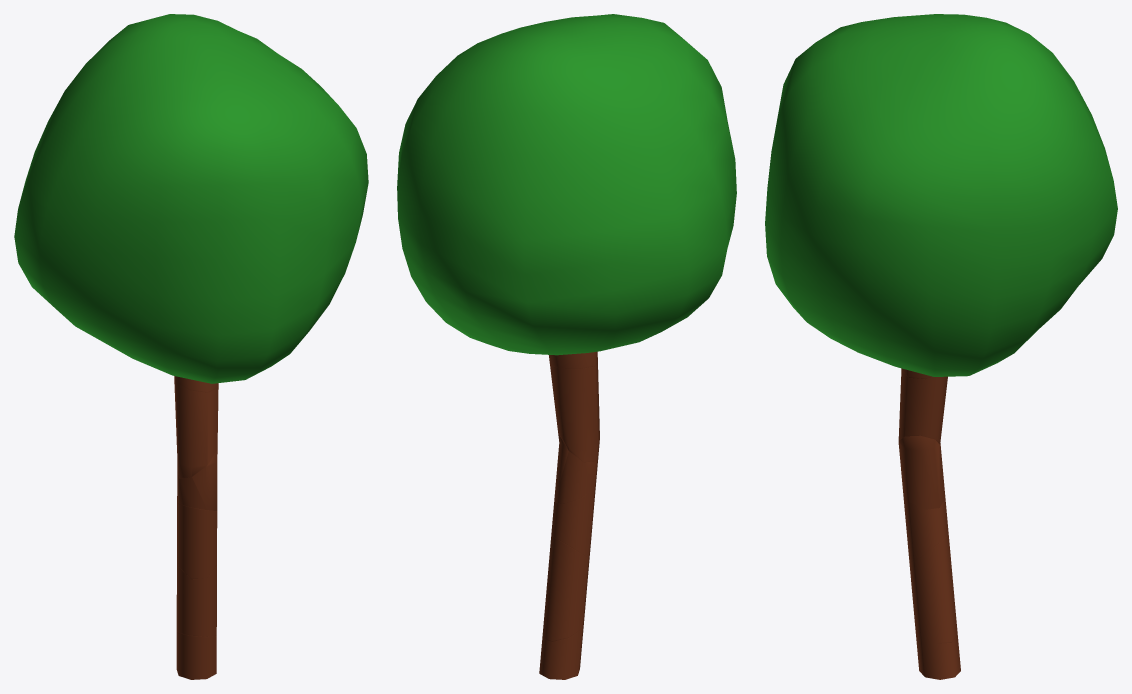
The model's file is D_drzewko.fbx.
3 views of the same model, side by side, from view 1: azimuth 30°, elevation 25°; view 2: azimuth 150°, elevation 25°; view 3: azimuth 270°, elevation 25° (orthographic).
Visible parts, largest first — view 1: drzewko.002, drzewko.003, drzewko.005, drzewko.006, drzewko.004, drzewko.001; view 2: drzewko.002, drzewko.003, drzewko.006, drzewko.005, drzewko.001, drzewko.004; view 3: drzewko.002, drzewko.006, drzewko.001, drzewko.003, drzewko.005, drzewko.004.
Part boxes in pixels (left/top/right/bottom): drzewko.002: left=14, top=14, right=368, bottom=392; drzewko.003: left=174, top=376, right=218, bottom=478; drzewko.005: left=177, top=502, right=217, bottom=579; drzewko.006: left=176, top=552, right=216, bottom=636; drzewko.004: left=176, top=631, right=216, bottom=679; drzewko.001: left=177, top=449, right=217, bottom=510; drzewko.002: left=397, top=14, right=736, bottom=368; drzewko.003: left=550, top=363, right=599, bottom=462; drzewko.006: left=542, top=536, right=589, bottom=641; drzewko.005: left=551, top=482, right=596, bottom=559; drzewko.001: left=554, top=434, right=598, bottom=503; drzewko.004: left=539, top=622, right=583, bottom=679; drzewko.002: left=765, top=14, right=1117, bottom=379; drzewko.006: left=909, top=535, right=957, bottom=643; drzewko.001: left=898, top=435, right=945, bottom=509; drzewko.003: left=898, top=370, right=947, bottom=444; drzewko.005: left=903, top=490, right=948, bottom=562; drzewko.004: left=915, top=626, right=960, bottom=679.
Size of the model in its own units: 93.23 by 186 by 92.75.
